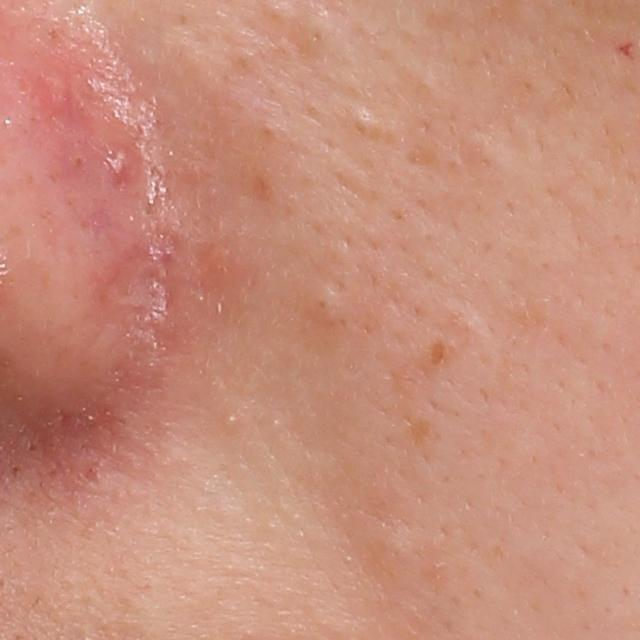comedo: (296, 8, 339, 56), (306, 276, 341, 328), (221, 413, 244, 431)
papule: (105, 144, 140, 179)
